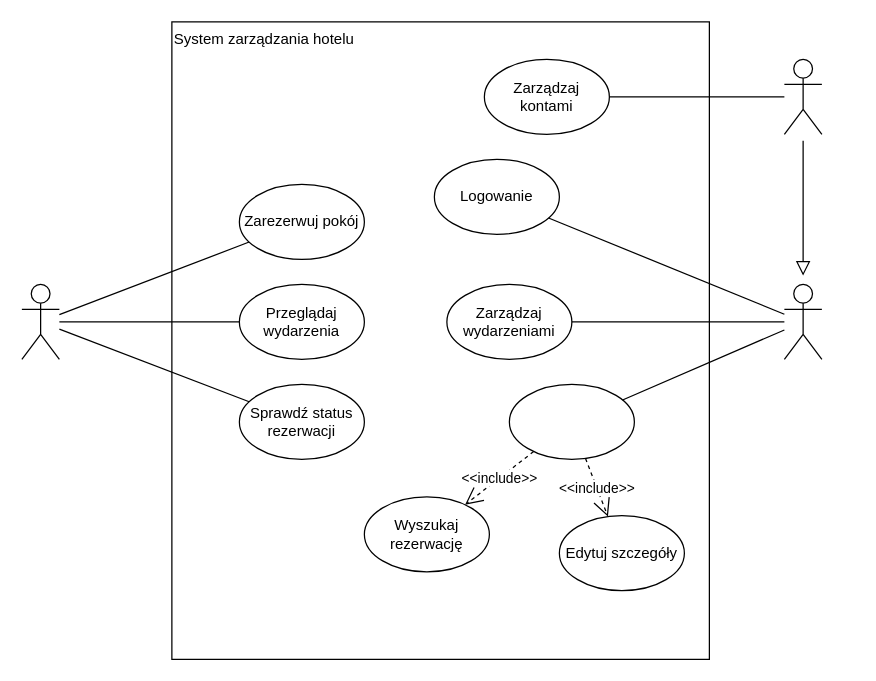
Image size: 876x681. Some labels were removed from this diagram. The box of each missing label's shape, as (x1, y1, x2, y2) in pixels:
Administrator: (783, 58, 822, 134)
Klient: (21, 283, 59, 359)
Personel hotelu: (783, 283, 822, 359)
Zarządzaj rezerwacjami: (508, 383, 634, 459)
